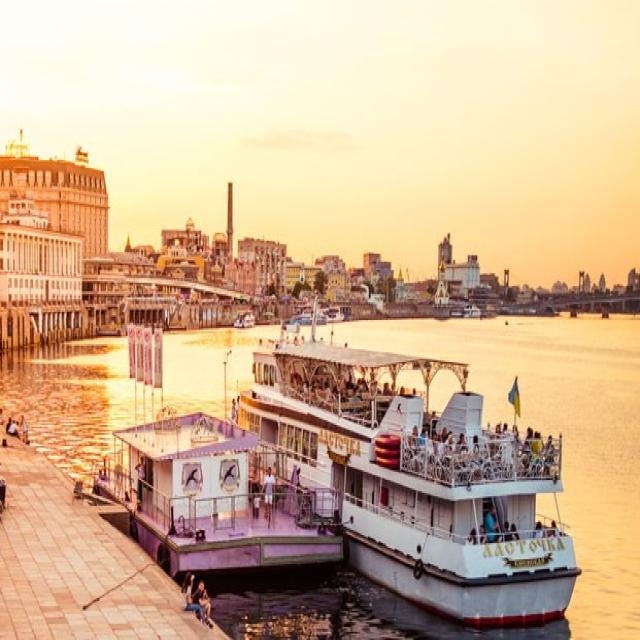passenger ship: (230, 309, 570, 619)
